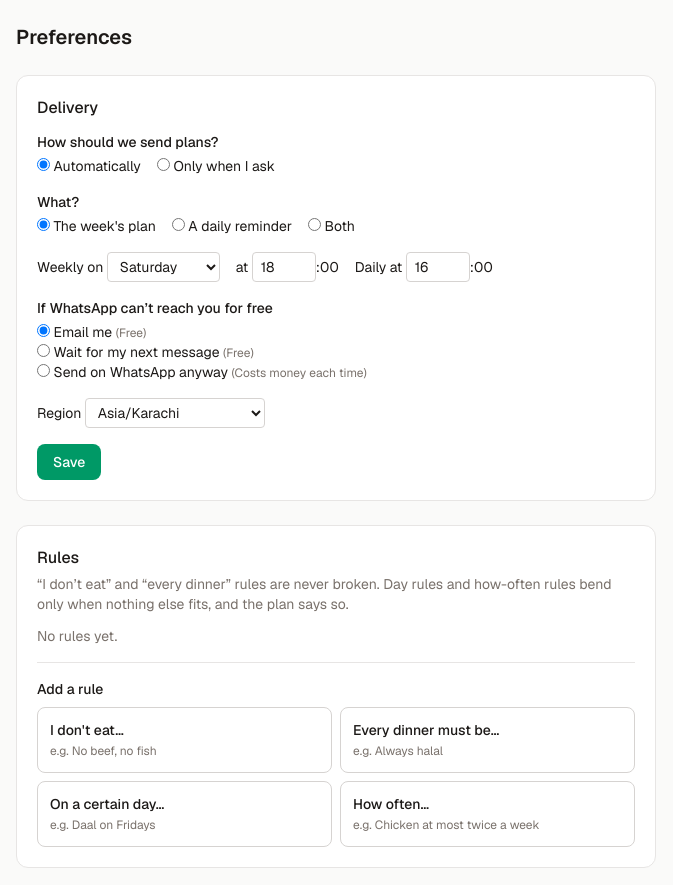
Test: preferences › builds a how-often rule as a sentence
(page scrolled)
Click the radio button labelled "How often… e.g. Chicken at most twice a week".
click(488, 814)  # box 340,781 -> 635,847
(page scrolled)
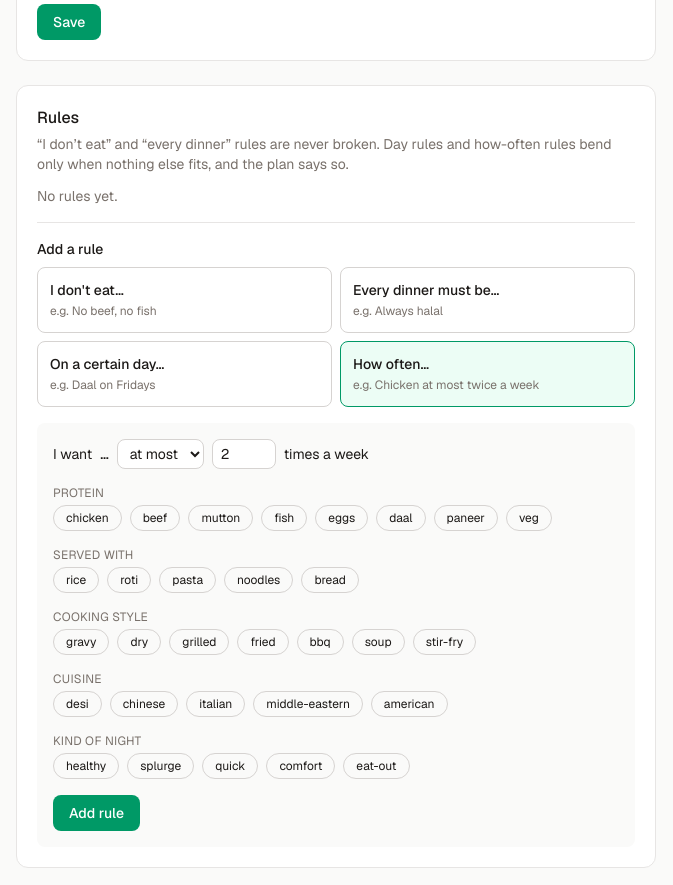
Click the checkbox labelled "chicken".
click(87, 518)  # box 53,505 -> 122,531
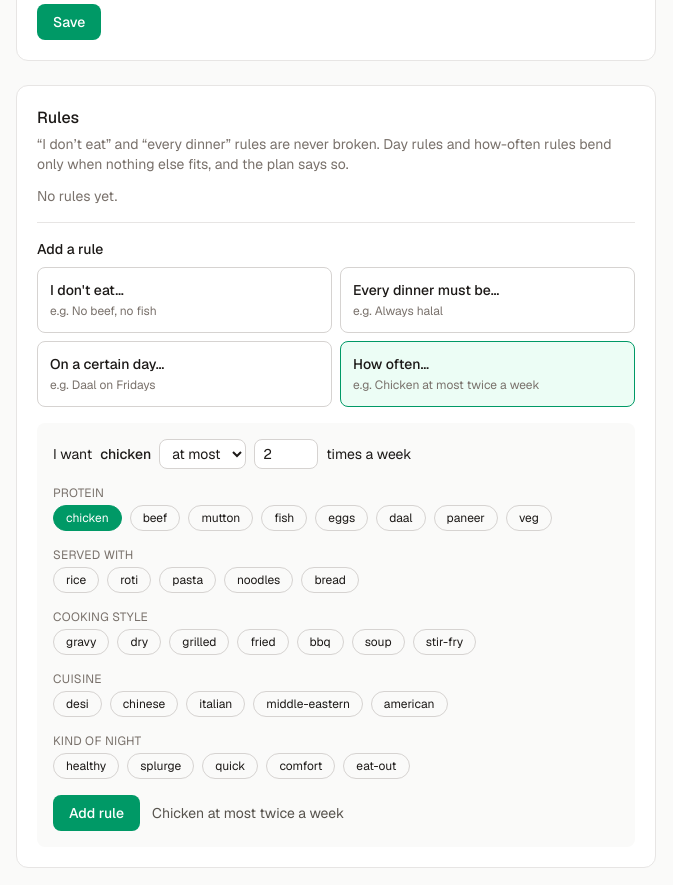
Select "exactly" in the dropdown named "How often" at (203, 454), box 159,439 -> 246,469
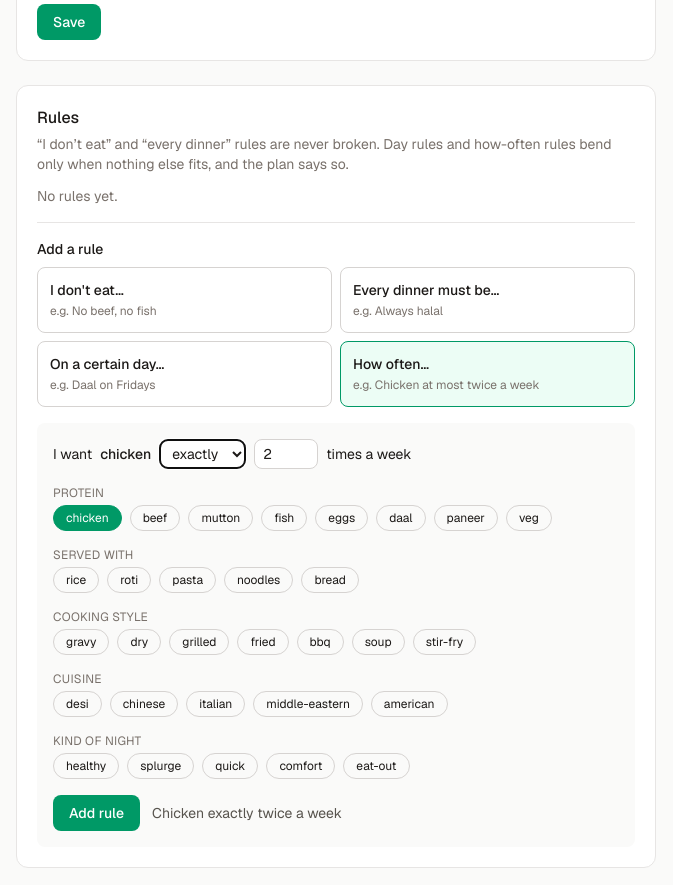
expect the text "Chicken exactly twice a week" is shown: met, box 152,803 -> 342,823
